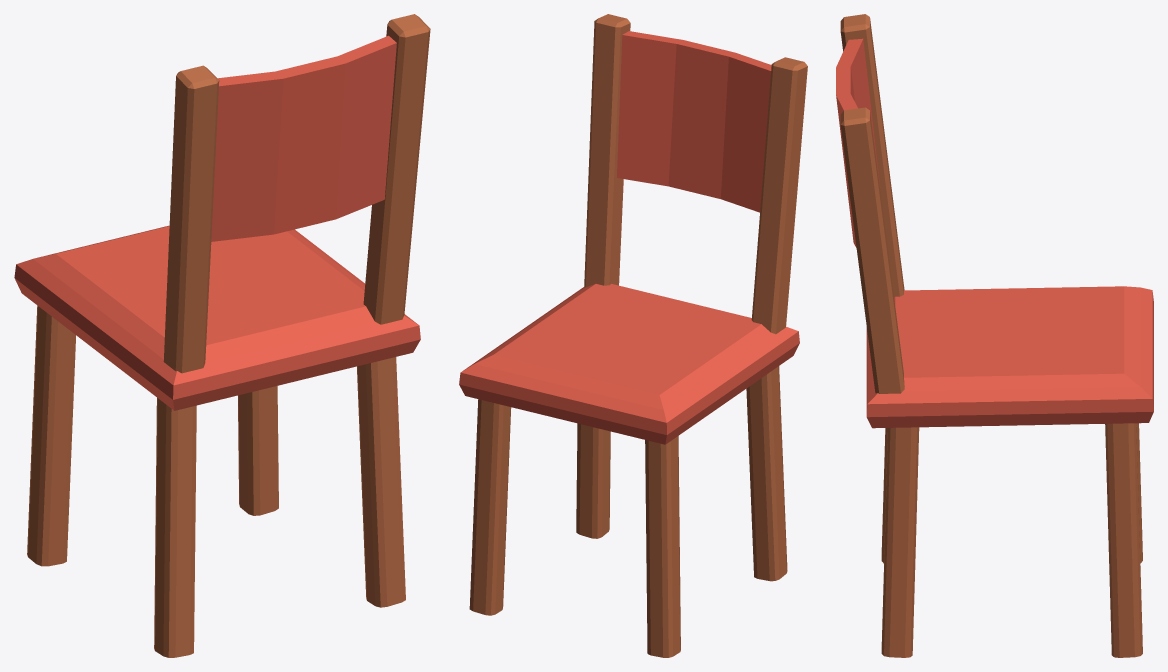
Rendered from Chair3red.fbx.
3 views of the same model, side by side, from view 1: azimuth 30°, elevation 25°; view 2: azimuth 150°, elevation 25°; view 3: azimuth 270°, elevation 25° (orthographic). The views are drawn at different scales.
Parts seen in each view (by area): view 1: chair 3 red; view 2: chair 3 red; view 3: chair 3 red.
Part boxes in pixels (x1,y1,x2,y2): chair 3 red: (14,14,430,657); chair 3 red: (459,14,807,657); chair 3 red: (836,14,1153,657).
Size of the model in its own units: 135 by 310 by 165.
1 material, 1 textured.
